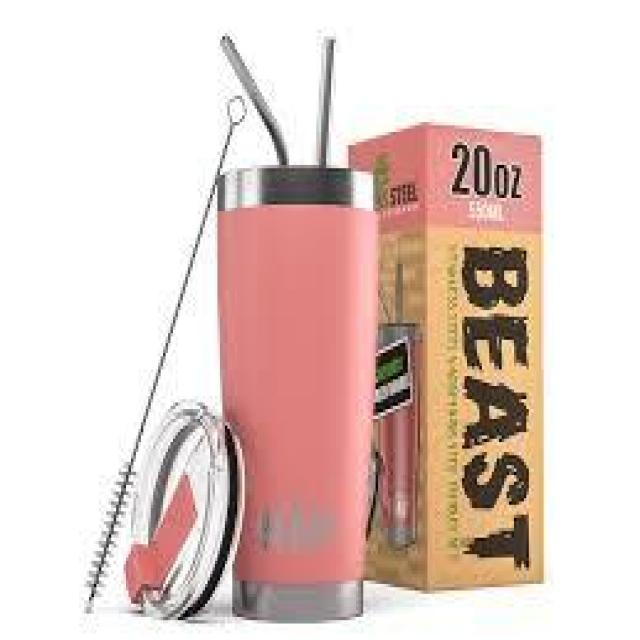bottle: (215, 31, 376, 622)
